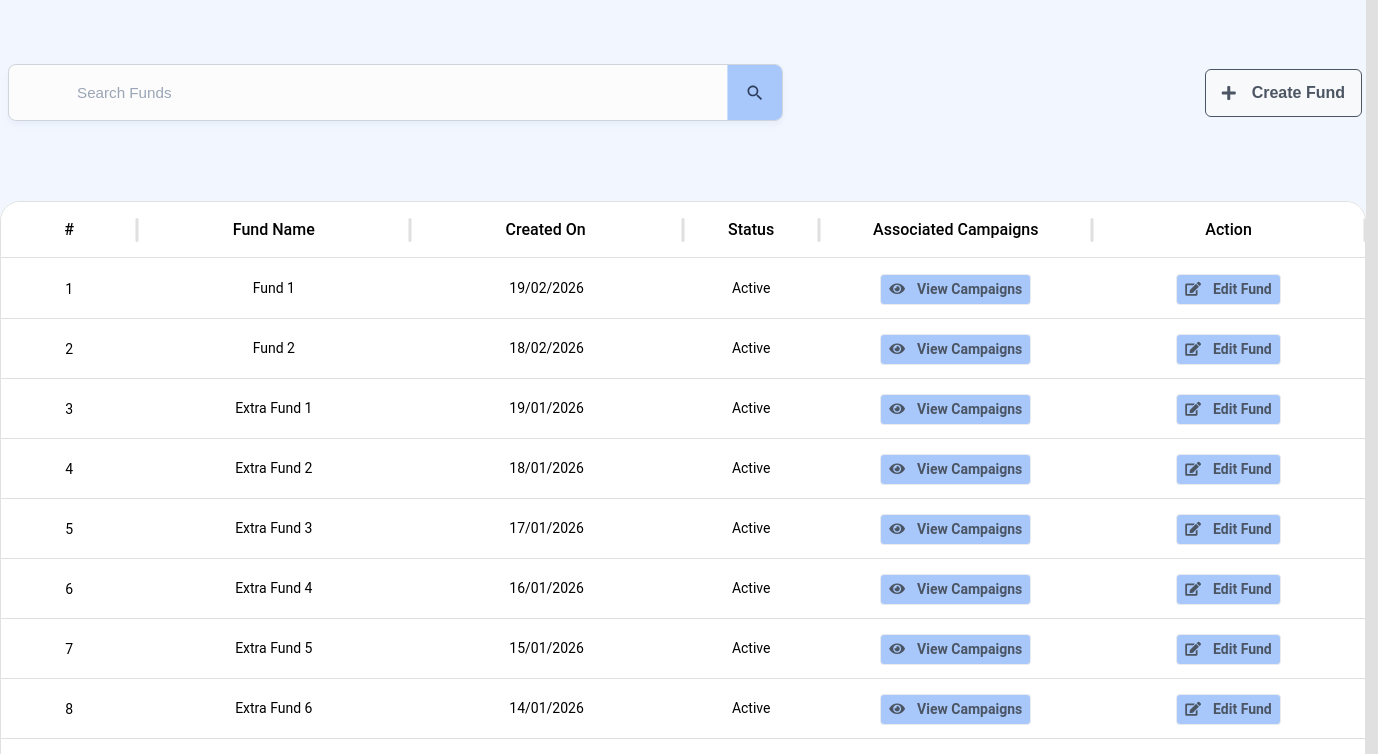
Test: OrganizationFunds Screen => › should clear the search input when clear button is clicked
This screenshot has width=1378, height=754.
Note: Get the search field and type into it
Type "testsearch" into the search field with test id "searchByName" at {"x": 360, "y": 92}, box 29,84 -> 691,101
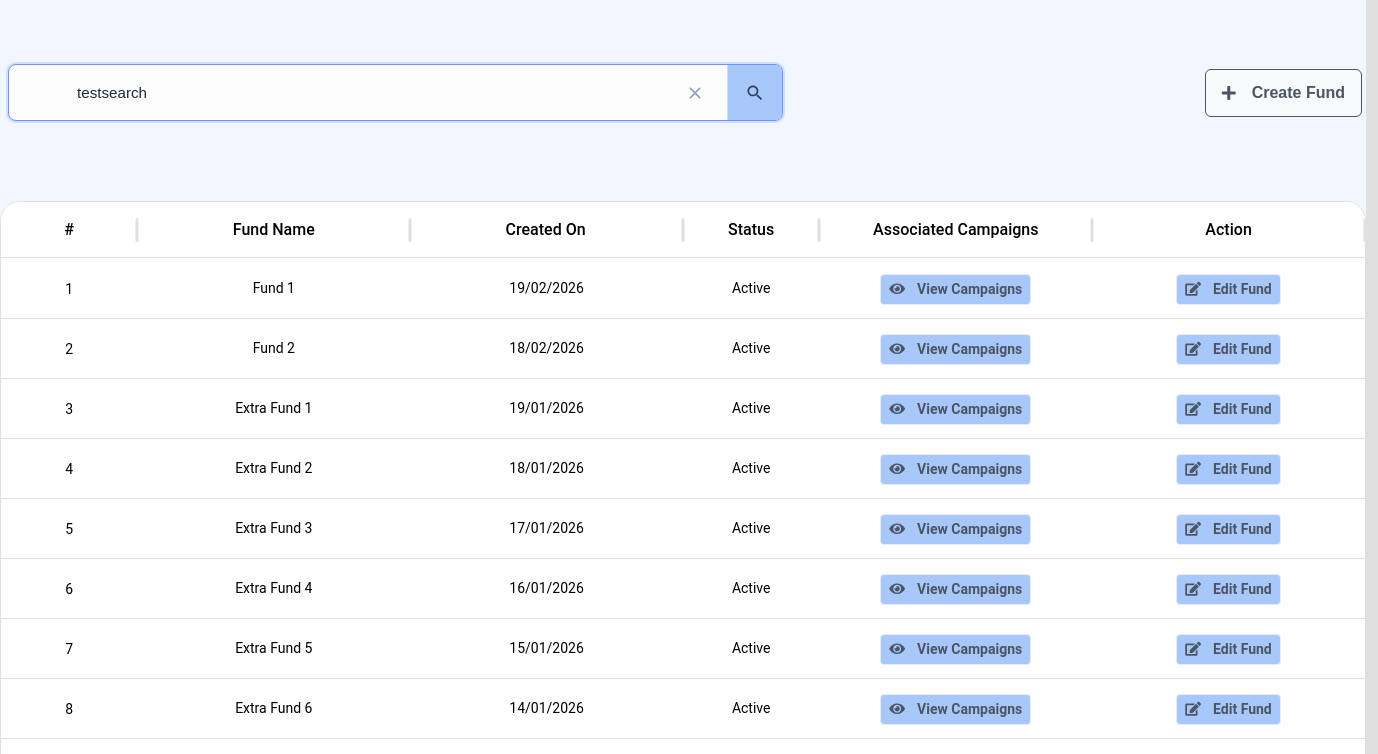
Note: Click the clear button
Click the button named "clear" at {"x": 695, "y": 92}, box 682,80 -> 707,105
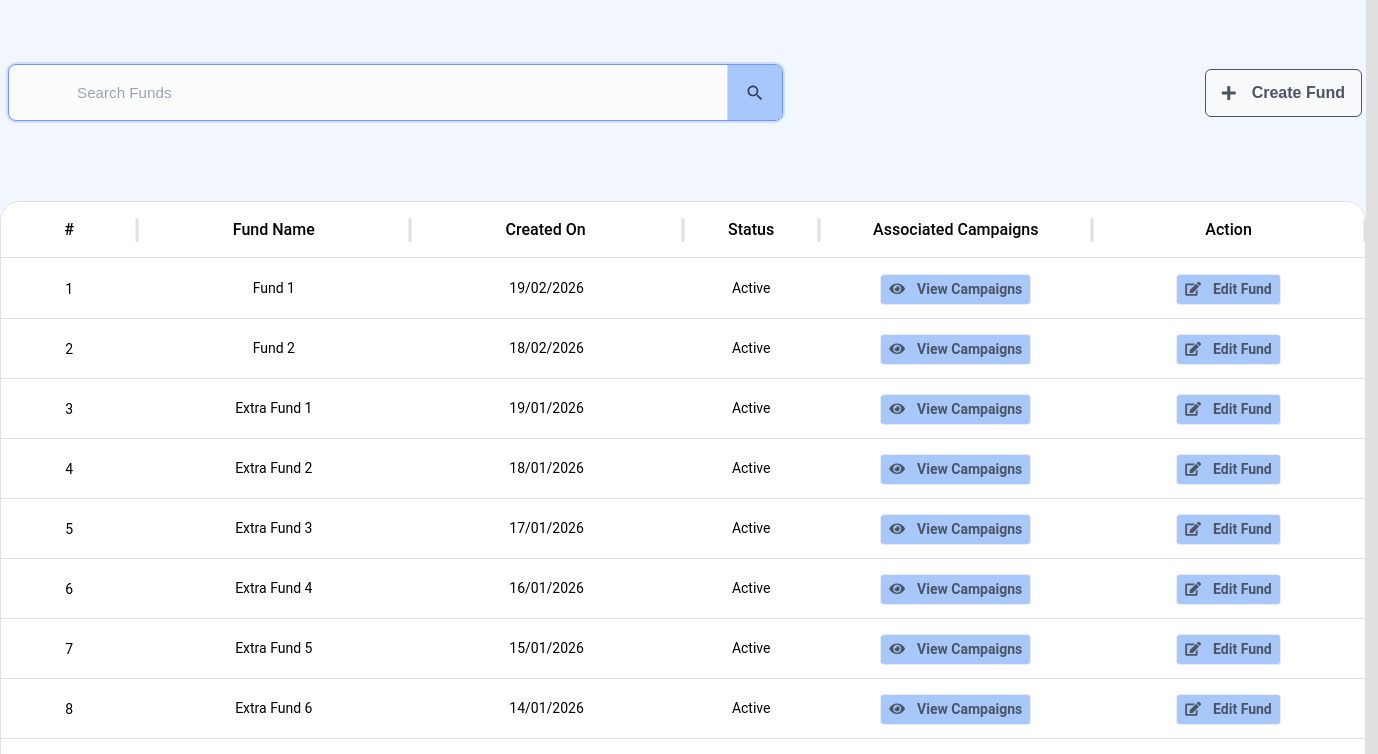
Expected: the search field with test id "searchByName" is empty, 29,84 -> 691,101
